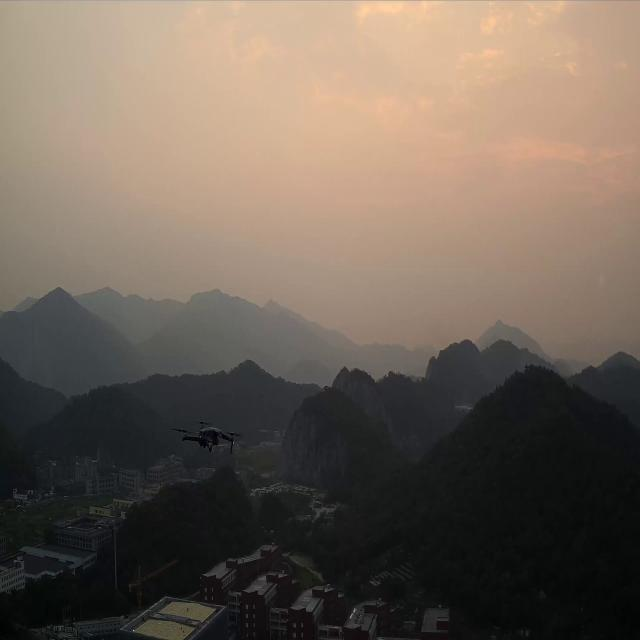UAV: (169, 417, 243, 456)
